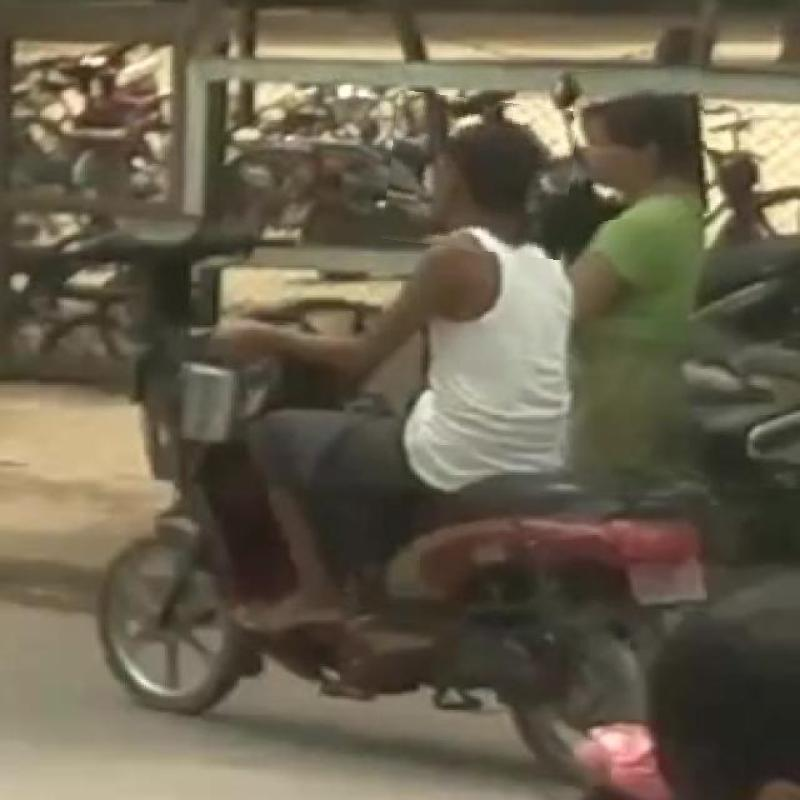nohelmet: (385, 95, 574, 255), (572, 66, 708, 219)
